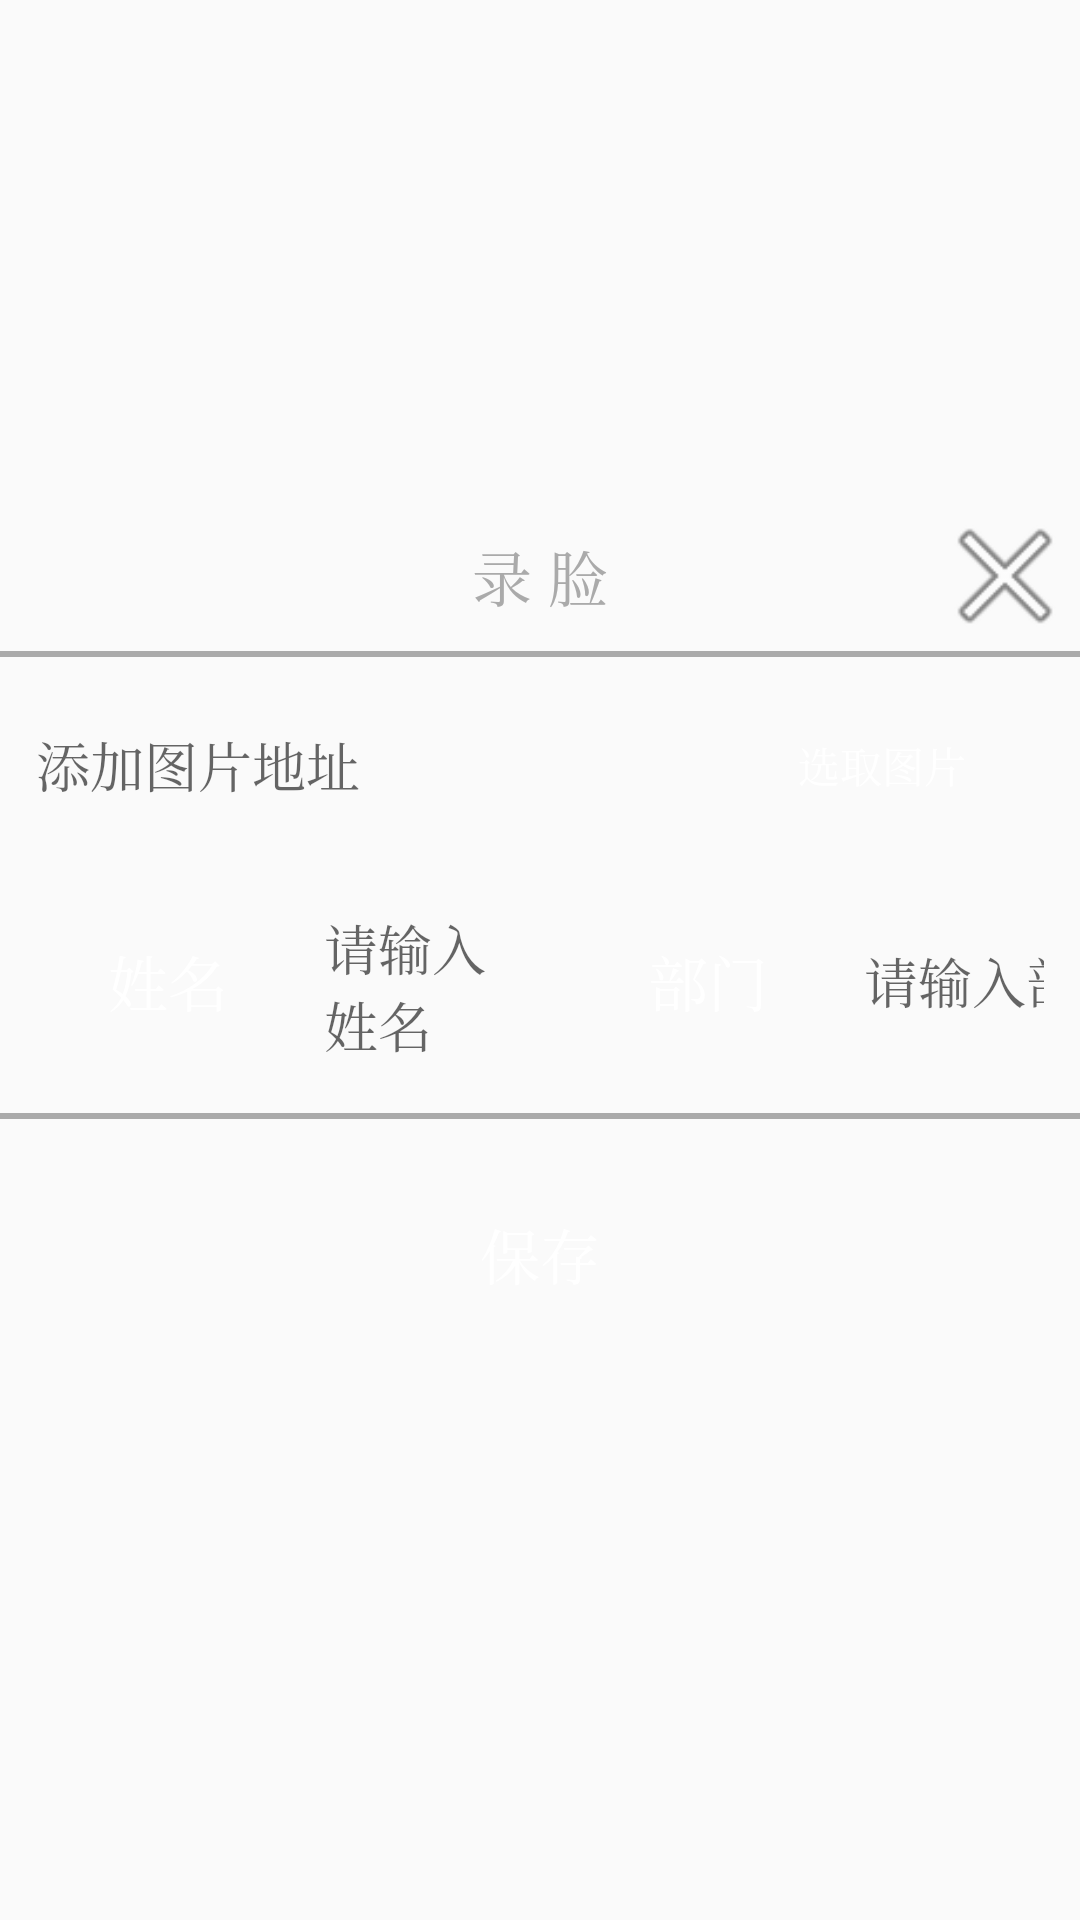

Where to tap for icons on this 1080x1920 app screen, as (x=x, y=y):
close clear cancel: (x=1005, y=576)
